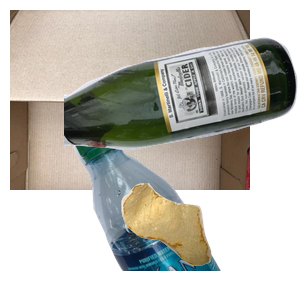cardboard: (10, 10, 250, 190)
glass: (64, 35, 300, 181)
plastic: (71, 120, 300, 300)
trash: (119, 181, 300, 300)
